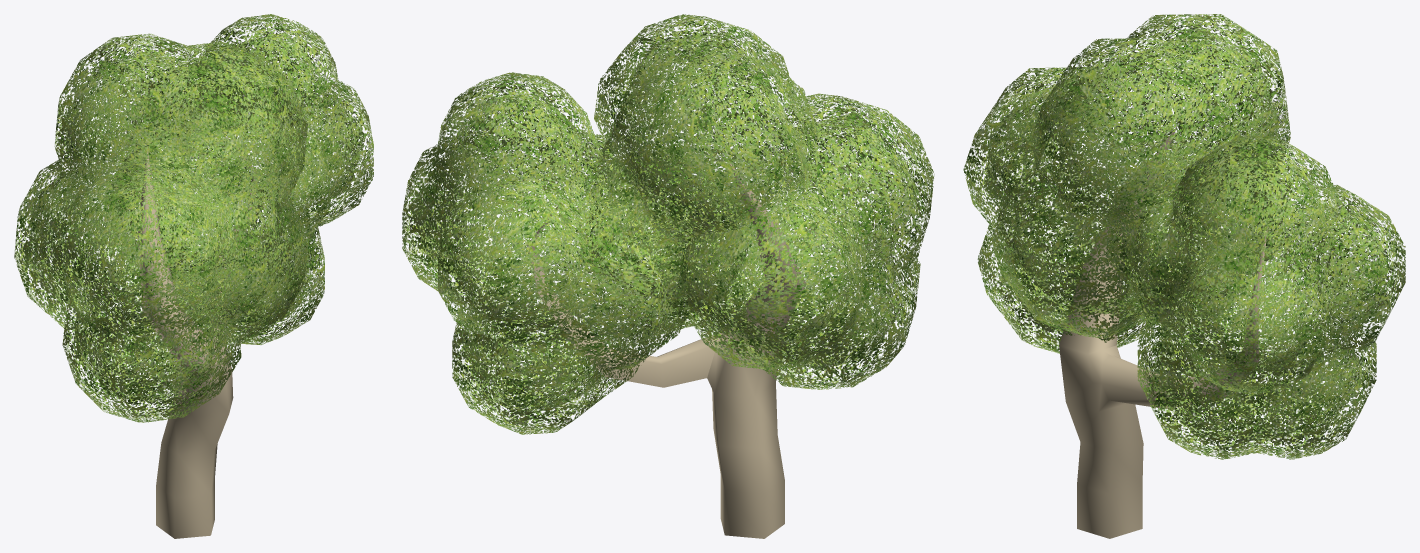
The model's file is tree3.glb.
3 views of the same model, side by side, from view 1: azimuth 30°, elevation 25°; view 2: azimuth 150°, elevation 25°; view 3: azimuth 270°, elevation 25° (orthographic). The views are drawn at different scales.
Parts seen in each view (by area): view 1: Polygon; view 2: Polygon; view 3: Polygon.
Boxes of the visible parts, x1,y1,x2,y2 form: Polygon: (14,14,373,538); Polygon: (402,14,934,538); Polygon: (963,14,1405,538).
Size of the model in its own units: 4.53 by 5.14 by 4.1.
Materials: 2 (1 with a texture image).
